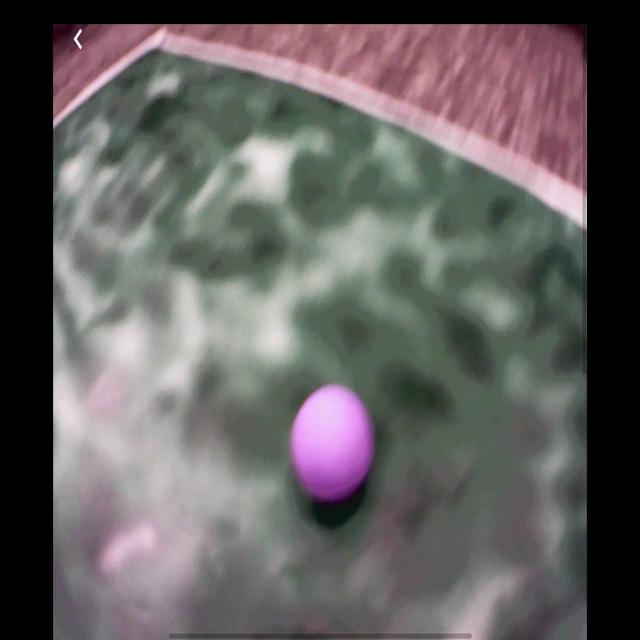ball: (290, 383, 375, 505)
